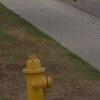a fire hydrant: (20, 52, 52, 99)
